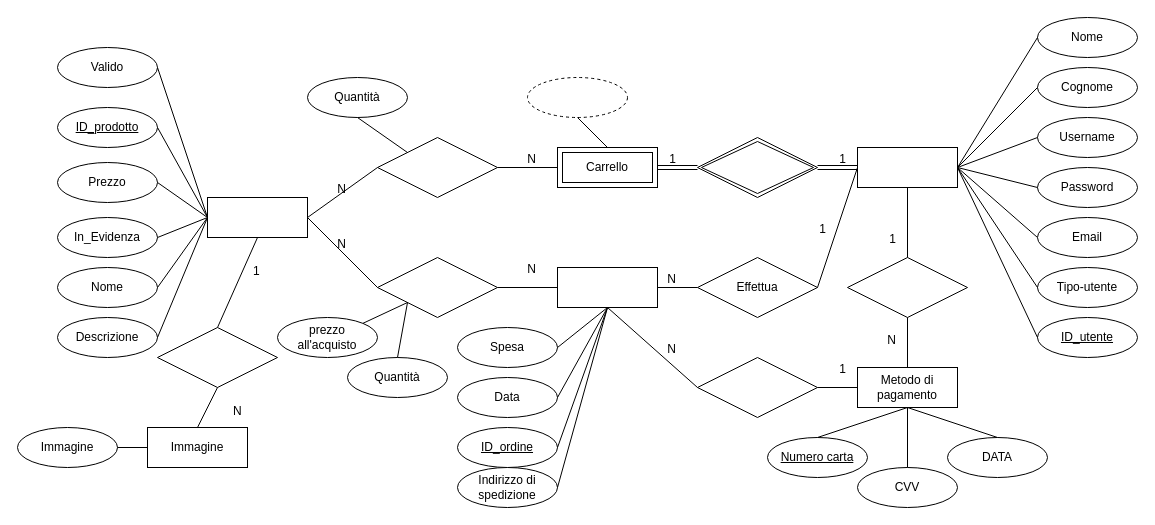
The diagram is 1155 pixels wide and 525 high, and some of its shapes have lost their labels. The box of each missing label's shape, as (x1, y1, x2, y2) in pixels:
Contenente: (376, 256, 498, 318)
Contiene: (376, 136, 498, 198)
Ha: (156, 326, 278, 388)
Ordine: (556, 266, 658, 308)
Possiede: (696, 136, 818, 198)
Prodotto: (206, 196, 308, 238)
Totale: (526, 76, 628, 118)
Usato da: (846, 256, 968, 318)
Usato in: (696, 356, 818, 418)
Utente: (856, 146, 958, 188)
